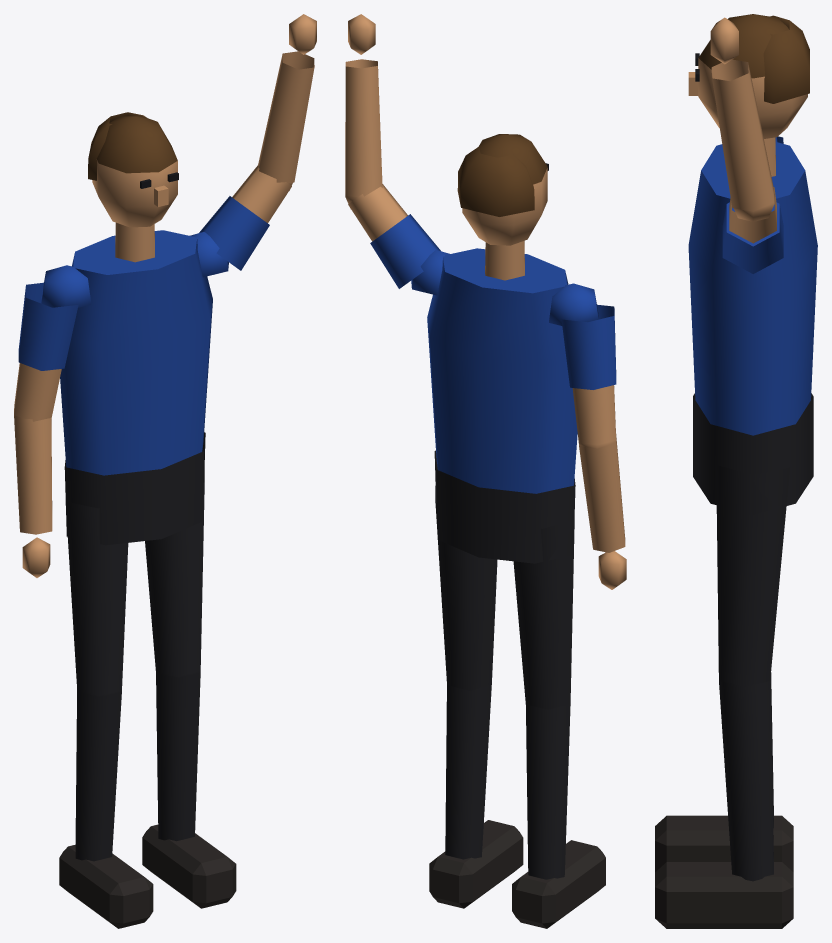
File: fan_b.dae
3 views of the same model, side by side, from view 1: azimuth 30°, elevation 25°; view 2: azimuth 150°, elevation 25°; view 3: azimuth 270°, elevation 25° (orthographic). The views are drawn at different scales.
Visible parts, largest first — view 1: marker; view 2: marker; view 3: marker.
Boxes of the visible parts, box(x1,y1,x2,y2) form: marker: box(14, 14, 316, 928); marker: box(345, 14, 626, 928); marker: box(655, 14, 817, 928).
Bounding box in the file's own units: 0.658 × 0.2821 × 1.85.
1 material, 1 textured.
